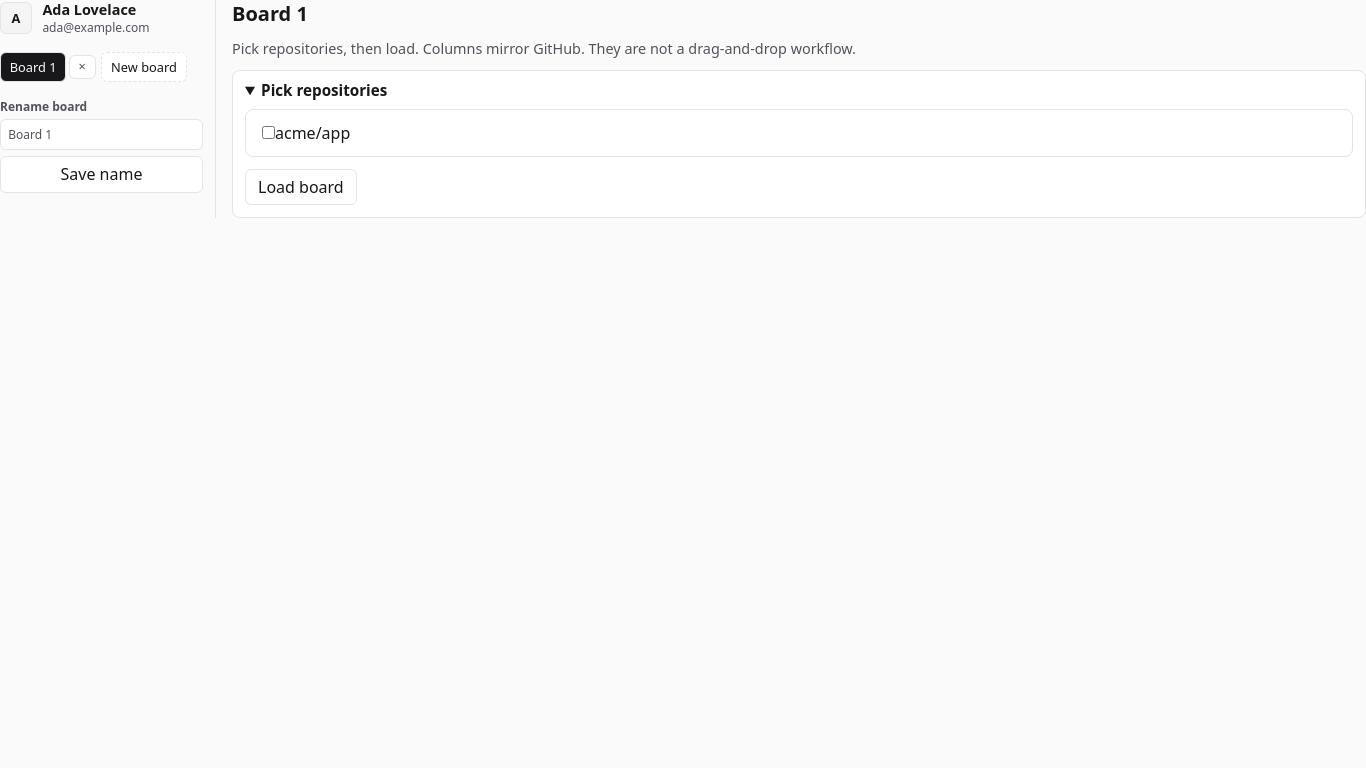
Scenario: plain-text overlap failures still show the server message
Expected: the text "acme/app" is shown, [262,122,350,144]
Click the checkbox labelled "acme/app": (268, 132) [262,126,275,139]
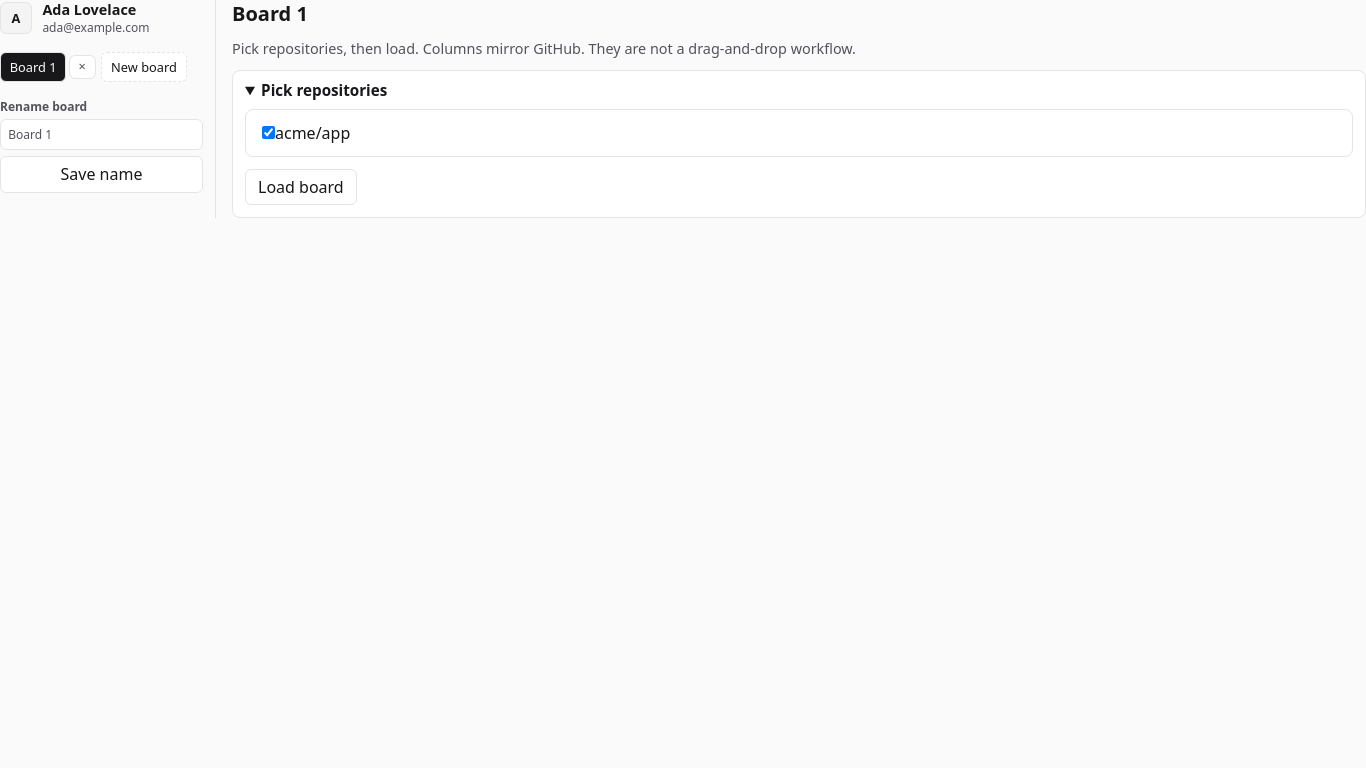
Click the button "Load board": (301, 187) [245,169,357,205]
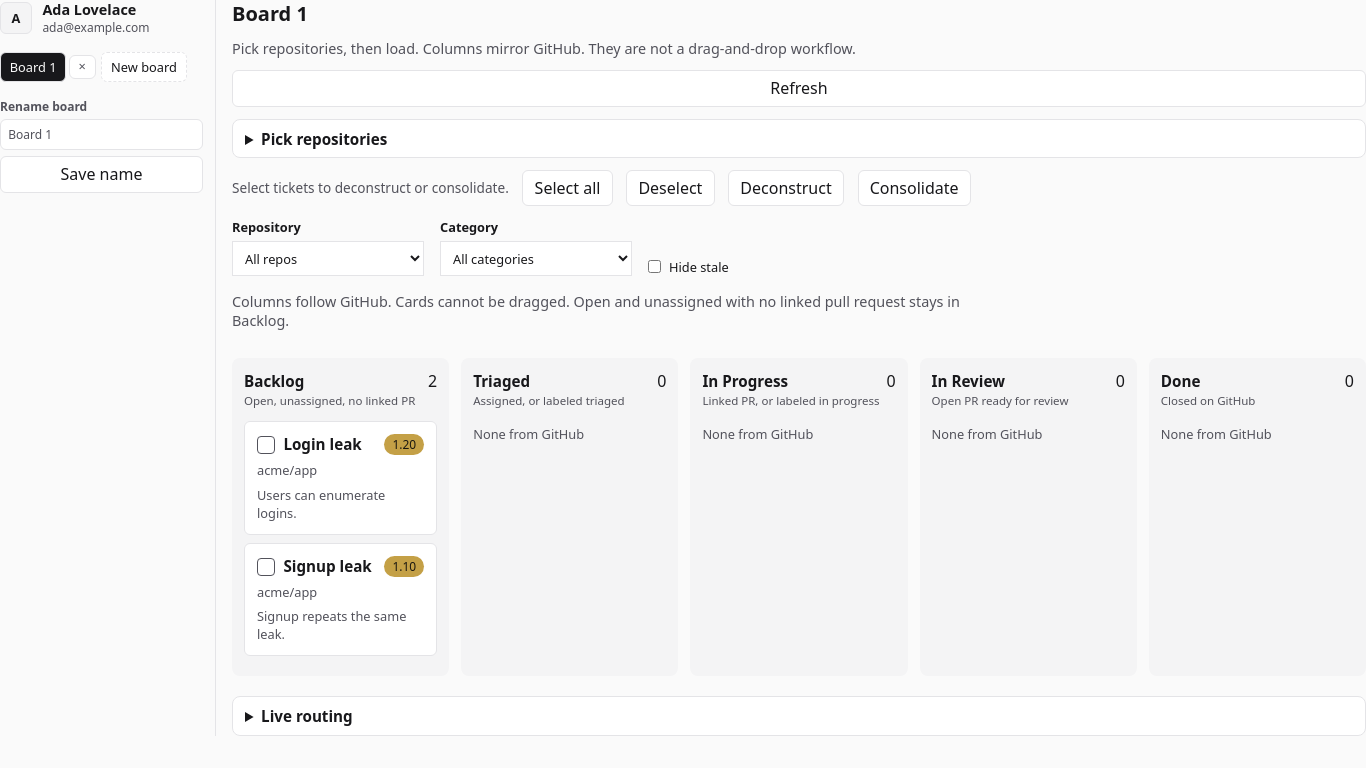
Now the heading "Login leak" is shown, box [283,434,362,454]
Click the checkbox named "Select acme/app#1": (266, 445) [257,436,275,454]
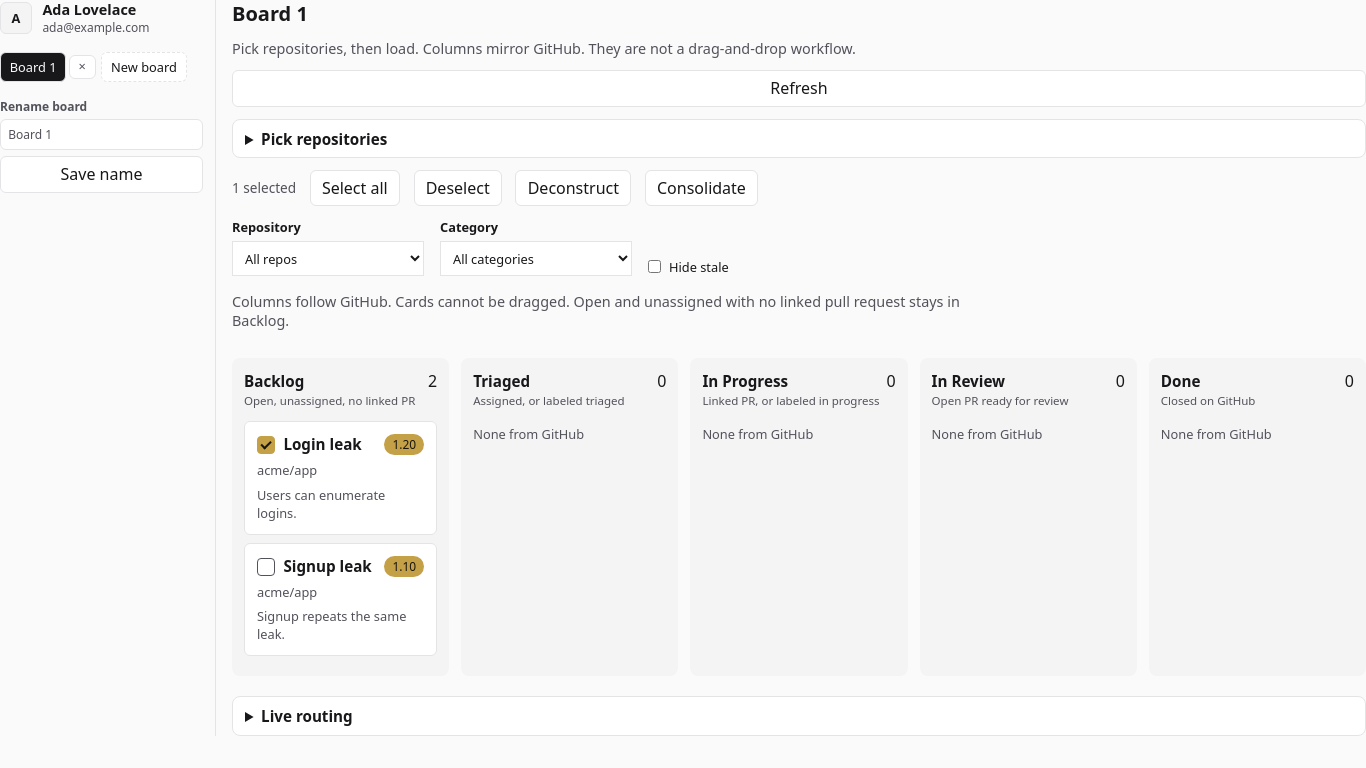
Click the checkbox named "Select acme/app#2": (266, 567) [257,558,275,576]
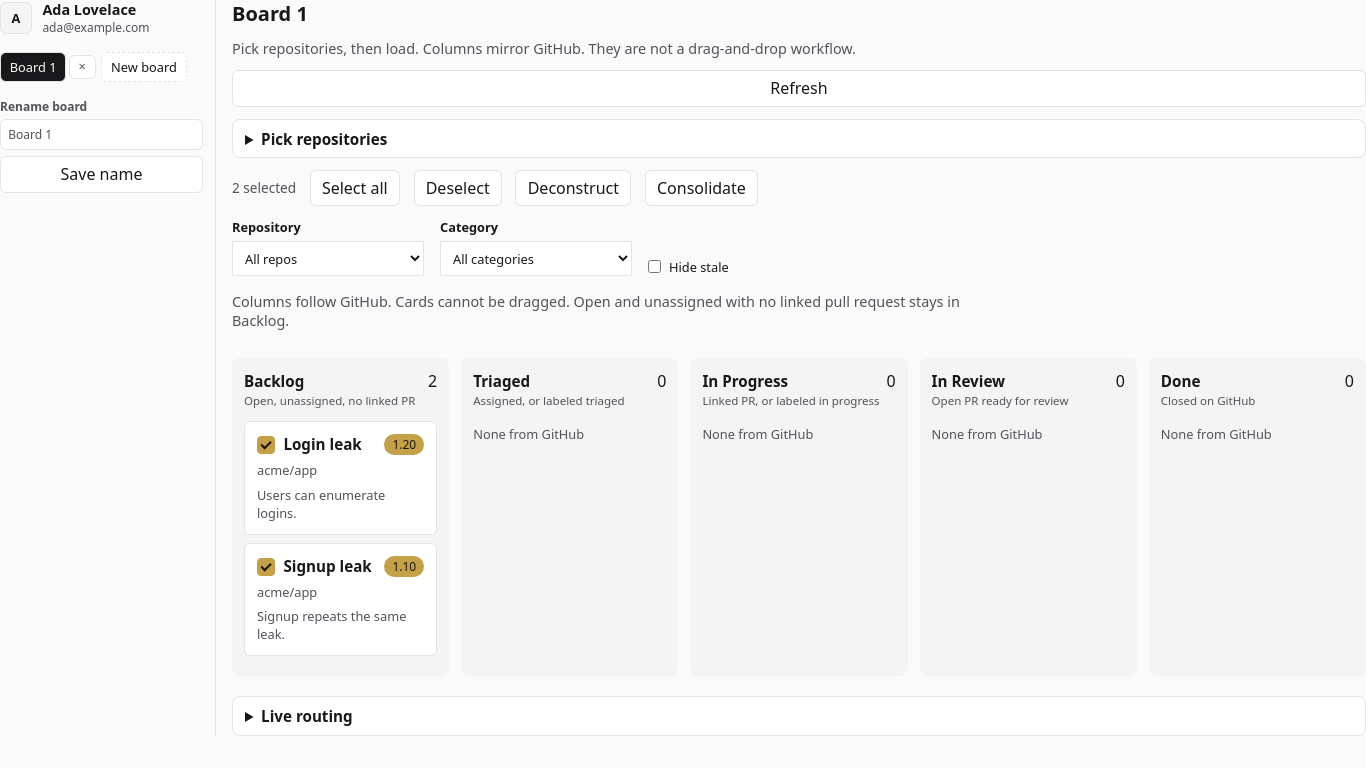
Click the button "Consolidate": (701, 188) [645,170,758,206]
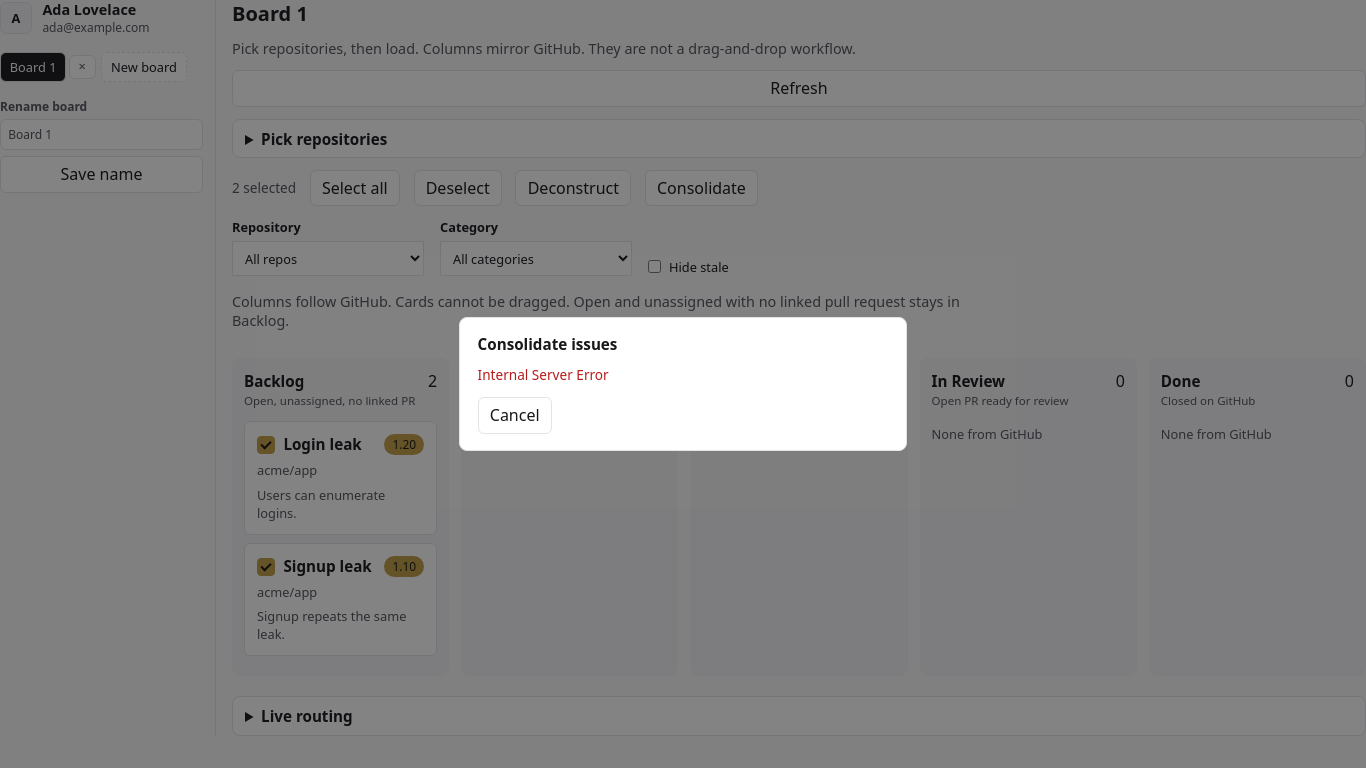
Now the text "Internal Server Error" is shown, box [478,364,609,384]
